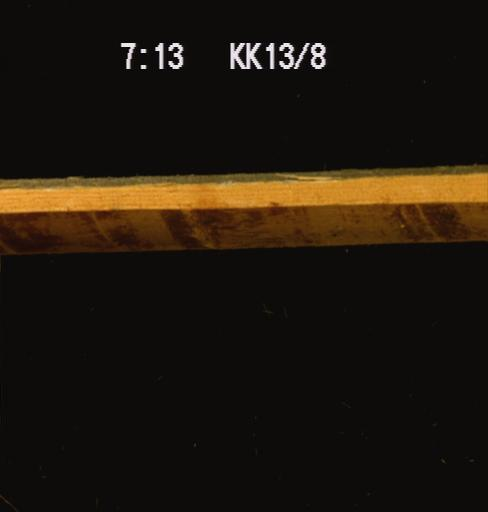wave: (0, 193, 487, 236)
